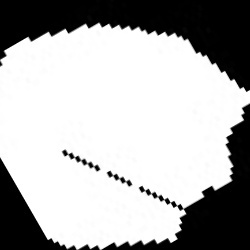spot: (1, 23, 248, 248)
